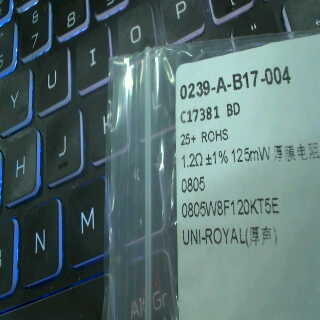1.2R: (179, 145, 205, 199)
